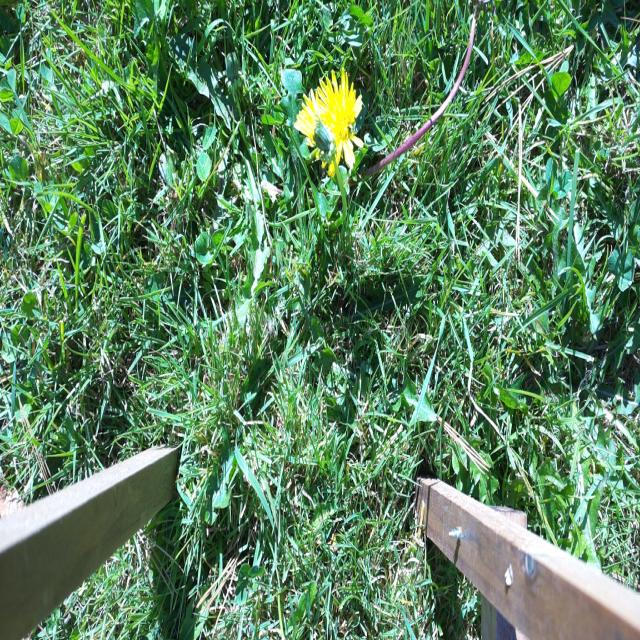base: (346, 172, 366, 200), (322, 216, 339, 242)
flower: (314, 80, 361, 156), (300, 106, 333, 158)
